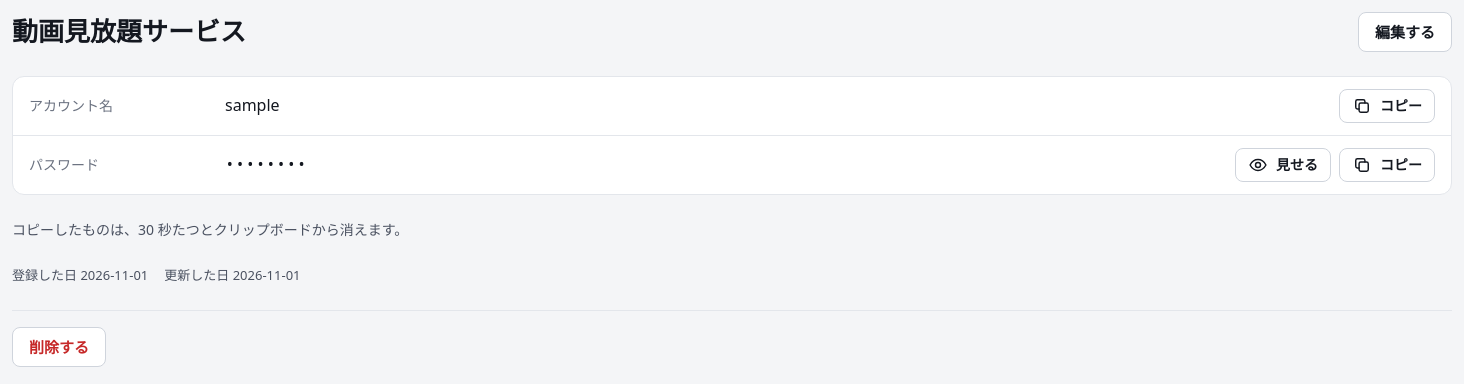
Test: 詳細の面 › パスワードは初めは伏せ、「見せる」で見せ、「隠す」で戻す
Expected: the text "hidden-Pa55word" is not shown
Click the button with aria-label "パスワードを見せる".
click(1283, 165)  # box [1235,148,1331,182]
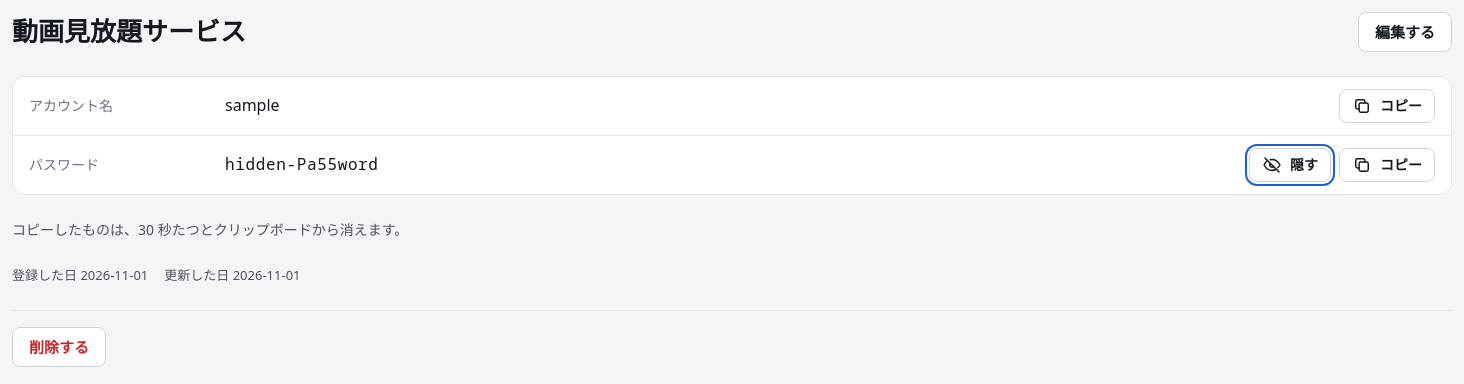
Expected: the text "hidden-Pa55word" is shown, [225,153,379,175]
Click the button with aria-label "パスワードを隠す".
click(1290, 165)  # box [1249,148,1331,182]
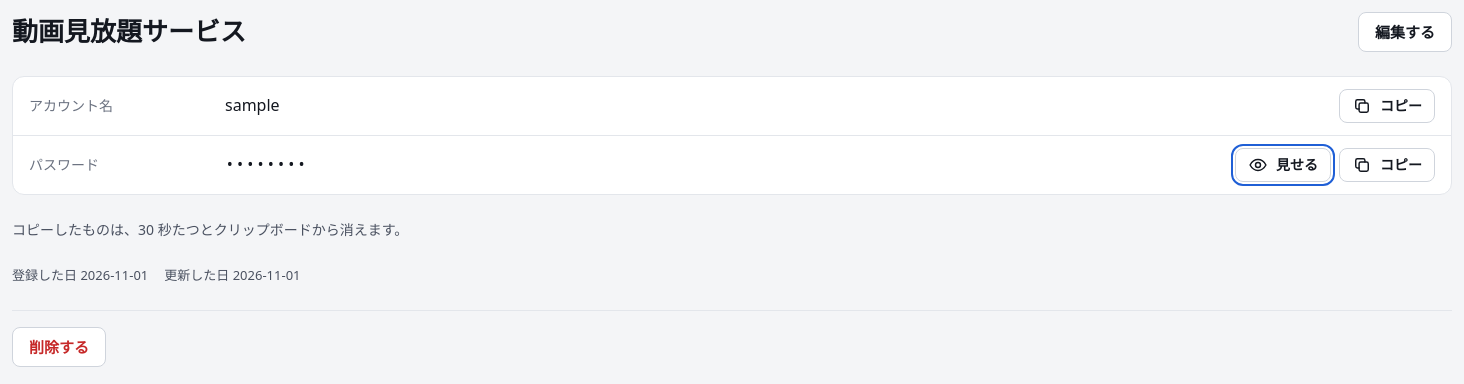
Expected: the text "hidden-Pa55word" is gone
